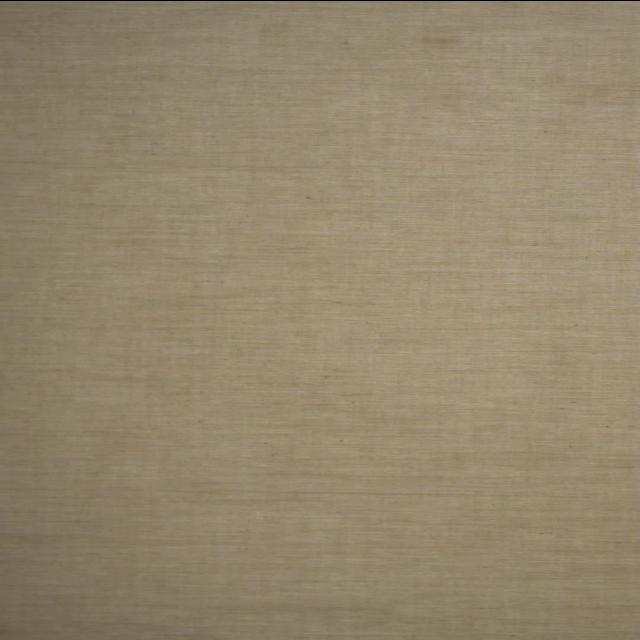dirty: (422, 37, 464, 43)
